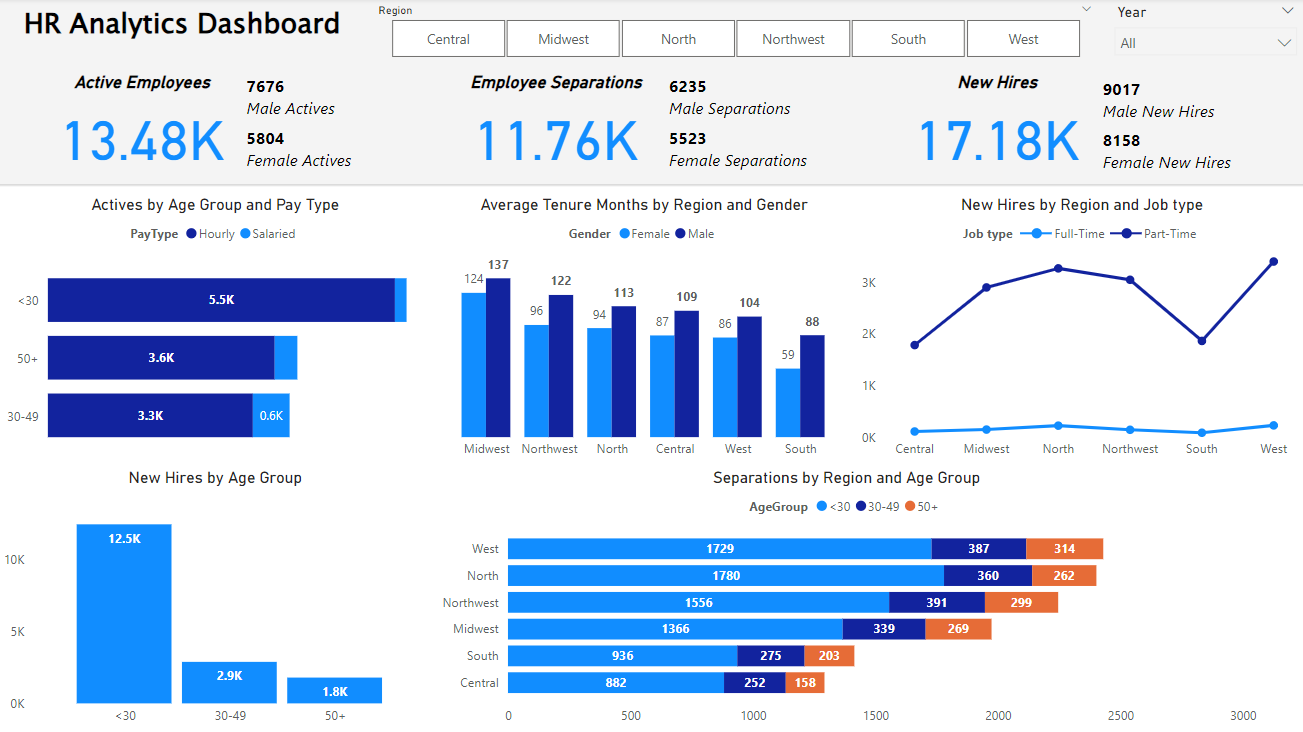

Layout of this report page (visuals, bound fields, positions):
{"tool":"powerbi","page":{"name":"Page 1","canvas":[1280,720],"ordinal":0},"visuals":[{"type":"shape","box":[0,0,1280.3,184.6],"z":0},{"type":"slicer","fields":{"Values":["BU.Region"]},"box":[358.1,0,723.2,64.5],"z":1000},{"type":"slicer","fields":{"Values":["Date.Date.Variation.Date Hierarchy.Year"]},"box":[1081.3,0,199,64.5],"z":2000},{"type":"textbox","box":[0,0,358.3,52.6],"z":3000},{"type":"card","title":"Active Employees","fields":{"Values":["Measure.Actives"]},"box":[42.8,72.1,194.4,102.7],"z":4000},{"type":"card","title":"Employee Separations","fields":{"Values":["Measure.Separations"]},"box":[439,72.1,211.6,102.7],"z":5000},{"type":"card","title":"New Hires","fields":{"Values":["Employee.NewHires"]},"box":[878,72.1,196.9,102.7],"z":6000},{"type":"multiRowCard","fields":{"Values":["Measures Table.Male Actives","Measures Table.Female Emp Actives"]},"box":[237.2,69.7,148,108.8],"z":7000},{"type":"barChart","title":"Actives by Age Group and Pay Type","fields":{"Y":["Measures Table.Actives"],"Series":["PayType.PayType"],"Category":["AgeGroup.AgeGroup"]},"box":[0,193.2,423.1,266.6],"z":8000},{"type":"clusteredColumnChart","title":"Average Tenure Months by Region and Gender","fields":{"Y":["Measures Table.AVG Tenure Months"],"Series":["Gender.Gender"],"Category":["BU.Region"]},"box":[423.1,193.2,415.8,266.6],"z":9000},{"type":"multiRowCard","fields":{"Values":["Measures Table.Male Separations","Measures Table.Female Separations"]},"box":[650.5,69.7,161.4,108.8],"z":10000},{"type":"multiRowCard","fields":{"Values":["Measures Table.Male New Hires","Measures Table.Female New Hires"]},"box":[1074.9,72.1,161.4,108.8],"z":11000},{"type":"columnChart","title":"New Hires by Age Group","fields":{"Y":["Employee.NewHires"],"Category":["AgeGroup.AgeGroup"]},"box":[0,459.8,423.1,260.5],"z":12000},{"type":"barChart","title":"Separations by Region and Age Group","fields":{"Y":["Measures Table.Separations"],"Category":["BU.Region"],"Series":["AgeGroup.AgeGroup"]},"box":[423.1,459.8,812,260.5],"z":13000},{"type":"lineChart","fields":{"Y":["Employee.NewHires"],"Series":["FP.Job type"],"Category":["BU.Region"]},"box":[838.9,193.2,441.4,266.6],"z":14000},{"type":"shape","box":[0,174.9,1280,15.9],"z":15000}]}

Visuals, with their boxes in screenshot pixels (x1, y1, x2, y2), scaled from the page's 1280x720 canvas onto the 1303x732 screenshot:
shape: locate(0, 0, 1302, 188)
slicer - BU.Region: locate(365, 0, 1101, 66)
slicer - Date.Date.Variation.Date Hierarchy.Year: locate(1101, 0, 1302, 66)
textbox: locate(0, 0, 365, 53)
"Active Employees" card: locate(44, 73, 241, 178)
"Employee Separations" card: locate(447, 73, 662, 178)
"New Hires" card: locate(894, 73, 1094, 178)
multiRowCard - Measures Table.Male Actives x Measures Table.Female Emp Actives: locate(241, 71, 392, 181)
"Actives by Age Group and Pay Type" barChart: locate(0, 196, 431, 467)
"Average Tenure Months by Region and Gender" clusteredColumnChart: locate(431, 196, 854, 467)
multiRowCard - Measures Table.Male Separations x Measures Table.Female Separations: locate(662, 71, 826, 181)
multiRowCard - Measures Table.Male New Hires x Measures Table.Female New Hires: locate(1094, 73, 1259, 184)
"New Hires by Age Group" columnChart: locate(0, 467, 431, 731)
"Separations by Region and Age Group" barChart: locate(431, 467, 1257, 731)
lineChart - Employee.NewHires x FP.Job type: locate(854, 196, 1302, 467)
shape: locate(0, 178, 1302, 194)
